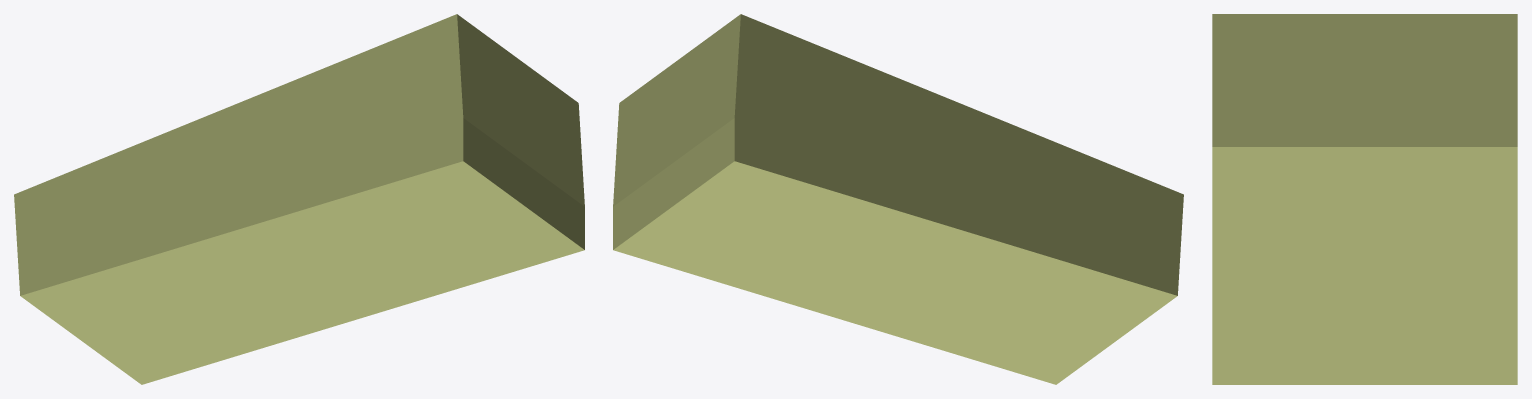
The picture shows the model from 3 angles, left to right: view 1: azimuth 30°, elevation 25°; view 2: azimuth 150°, elevation 25°; view 3: azimuth 270°, elevation 25°; orthographic projection. The views are drawn at different scales.
Parts seen in each view (by area): view 1: 0_1_2_0_3_1_0_0_1; view 2: 0_1_2_0_3_1_0_0_1; view 3: 0_1_2_0_3_1_0_0_1.
Part boxes in pixels (bbox=[...]): 0_1_2_0_3_1_0_0_1: bbox=[14, 14, 584, 384]; 0_1_2_0_3_1_0_0_1: bbox=[613, 14, 1183, 384]; 0_1_2_0_3_1_0_0_1: bbox=[1212, 14, 1517, 384].
Size of the model in its own units: 19.2 by 7.16 by 9.
